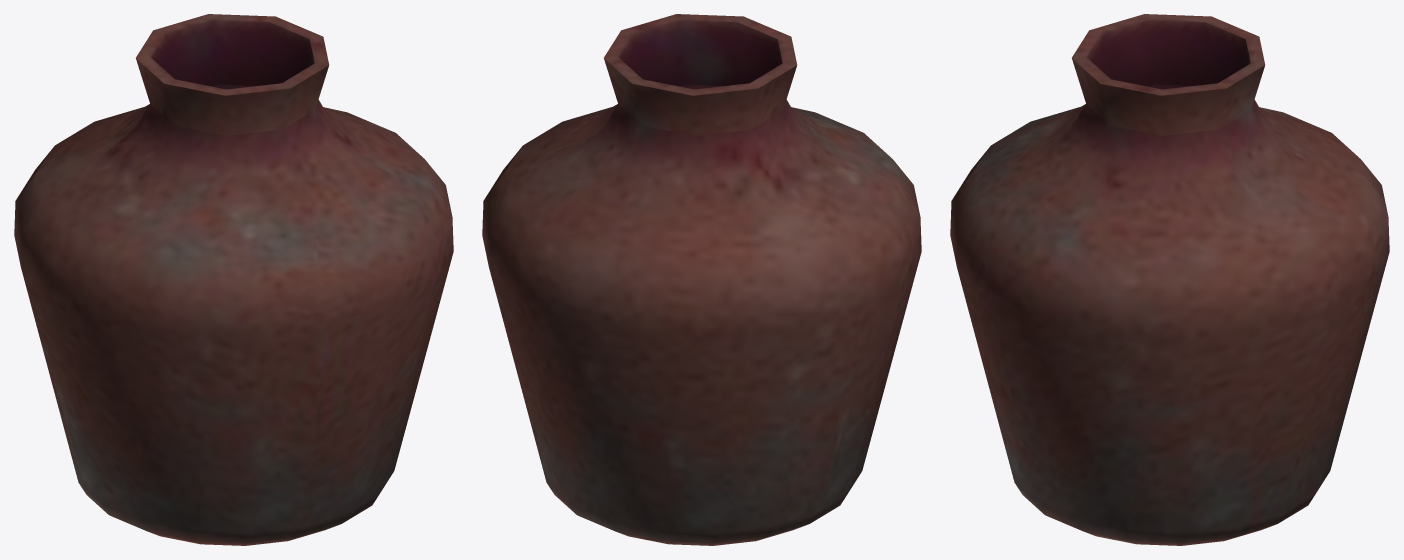
Rendered from ClayPot.FBX.
3 views of the same model, side by side, from view 1: azimuth 30°, elevation 25°; view 2: azimuth 150°, elevation 25°; view 3: azimuth 270°, elevation 25° (orthographic).
Visible parts, largest first — view 1: ClayPot; view 2: ClayPot; view 3: ClayPot.
Part boxes in pixels (box(x1,y1,x2,y2)): ClayPot: box(14, 14, 453, 545); ClayPot: box(482, 14, 921, 545); ClayPot: box(950, 14, 1389, 545).
Size of the model in its own units: 35.78 by 39.32 by 35.78.
